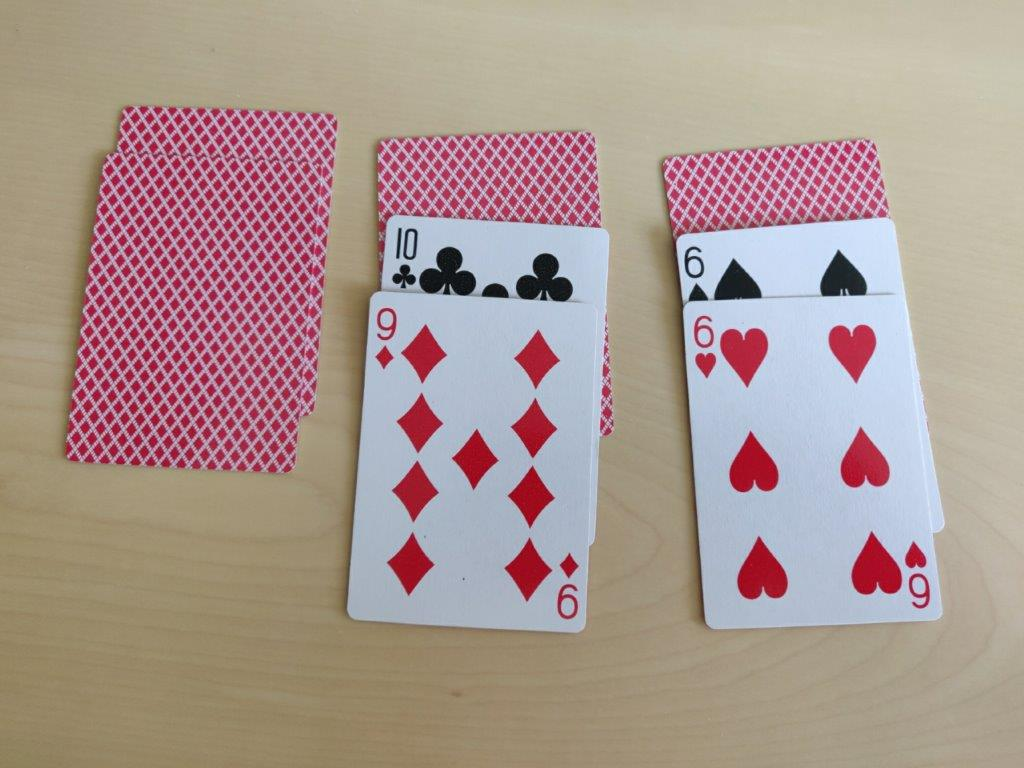10C: (390, 223, 420, 291)
6H: (689, 304, 720, 386)
6S: (680, 241, 712, 307)
9D: (368, 303, 400, 373)
BACK: (78, 157, 301, 483), (645, 146, 901, 223), (378, 137, 601, 221), (111, 98, 332, 163)
